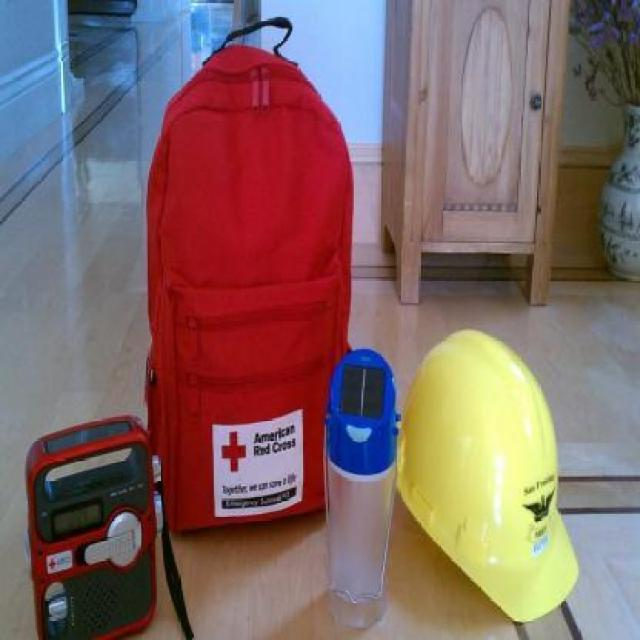backpack: (143, 12, 354, 538)
